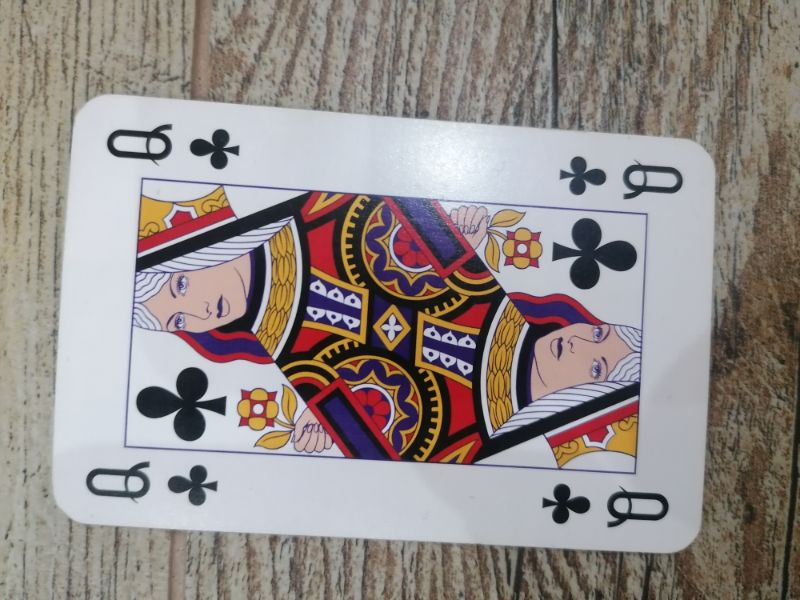Qc: (82, 454, 224, 512), (538, 476, 672, 537), (105, 119, 245, 177), (555, 153, 688, 206)
